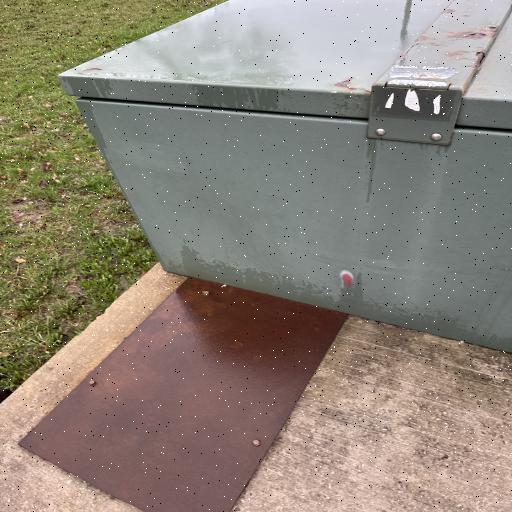Electrical Box: (59, 0, 512, 354)
